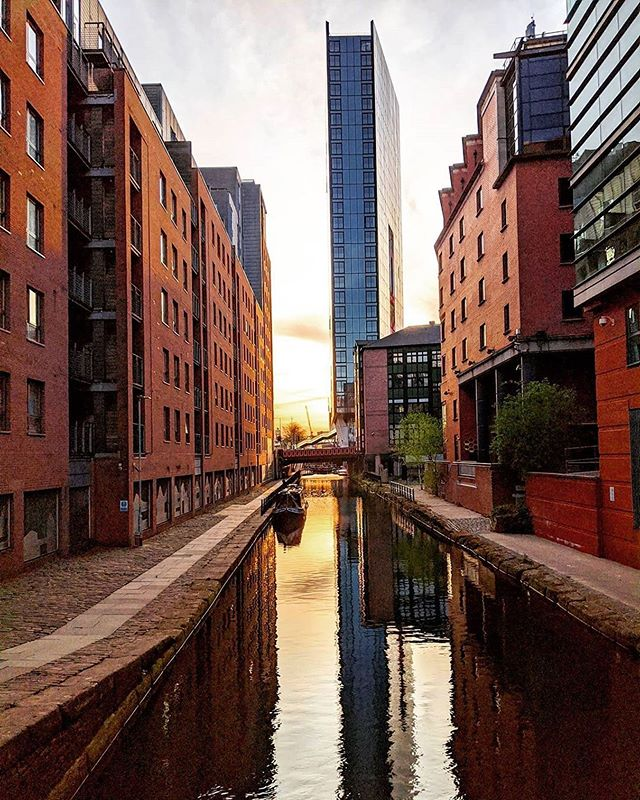boat: (266, 482, 316, 549)
building: (1, 4, 289, 585), (433, 24, 638, 555), (315, 13, 414, 457), (351, 319, 462, 478)
river: (76, 461, 602, 798)
sidewalk: (1, 476, 276, 761), (365, 480, 628, 638)
sky: (157, 1, 362, 444)
